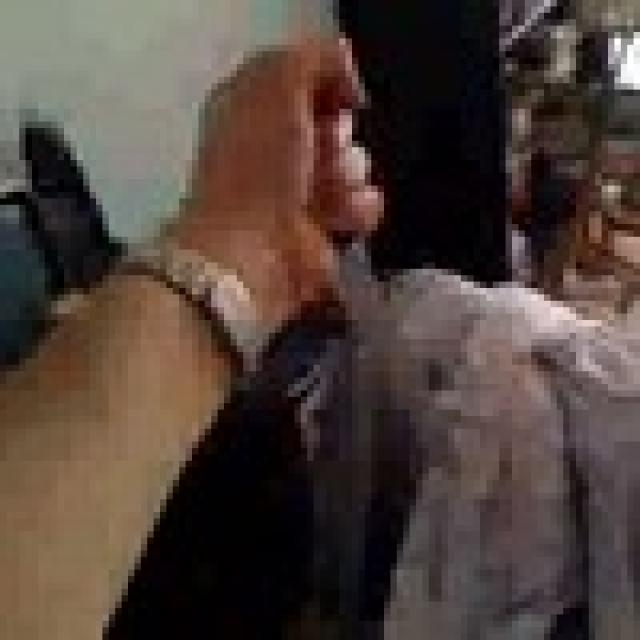Knife_Handle: (202, 35, 464, 477)
